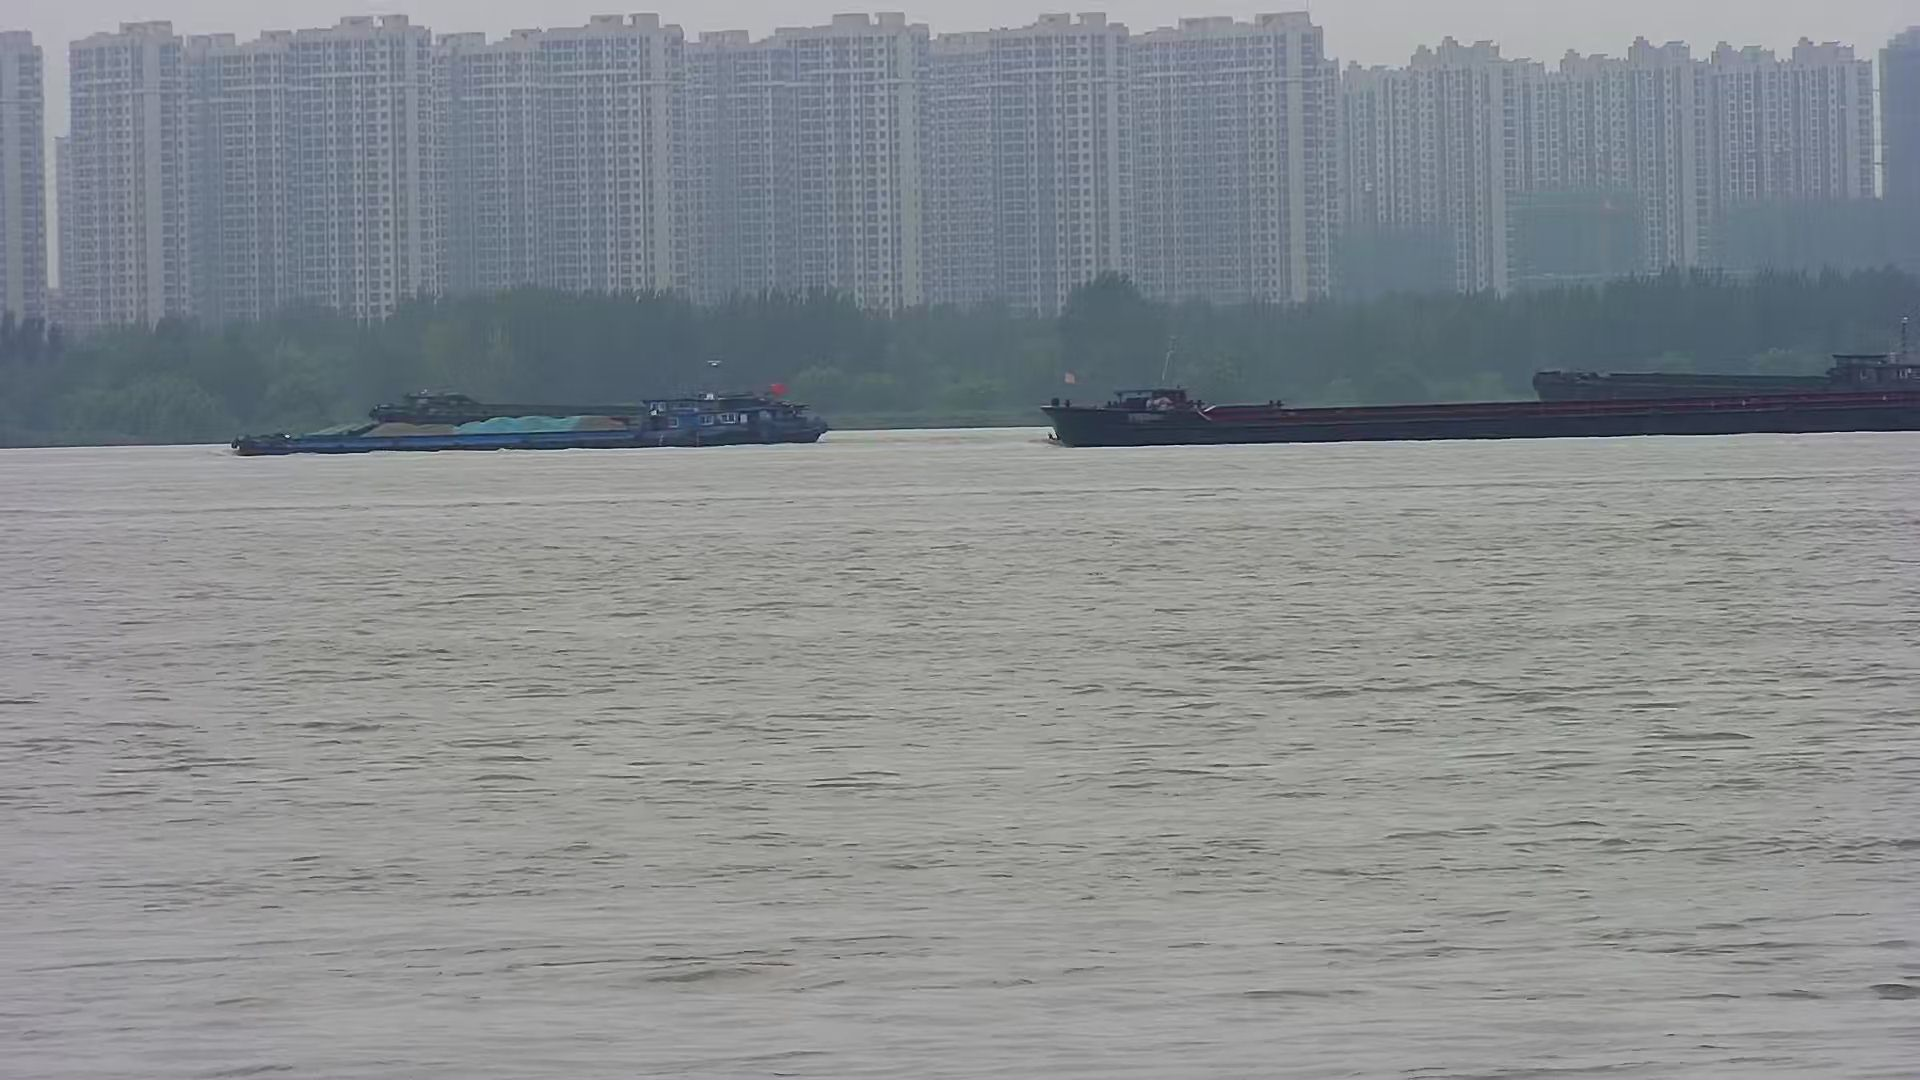ship: (1031, 359, 1920, 450), (228, 365, 837, 452), (1531, 355, 1920, 427)
